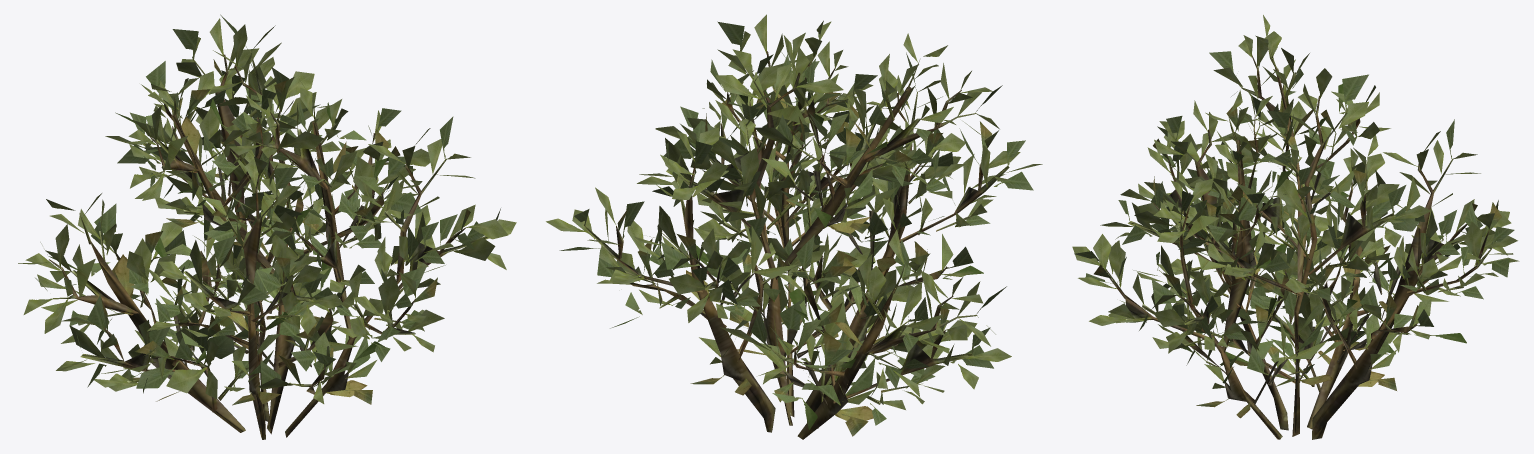
File: shrub_a-CNQoZBS0.glb
3 renders of one model, left to right at view 1: azimuth 30°, elevation 25°; view 2: azimuth 150°, elevation 25°; view 3: azimuth 270°, elevation 25°, orthographic. The views are drawn at different scales.
Visible parts, largest first — view 1: shrub_a; view 2: shrub_a; view 3: shrub_a.
Boxes of the visible parts, <box> form: shrub_a: <box>18,14,516,439</box>; shrub_a: <box>546,14,1042,439</box>; shrub_a: <box>1072,15,1519,439</box>.
Size of the model in its own units: 1.09 by 0.9999 by 1.11.
1 material, 1 textured.
